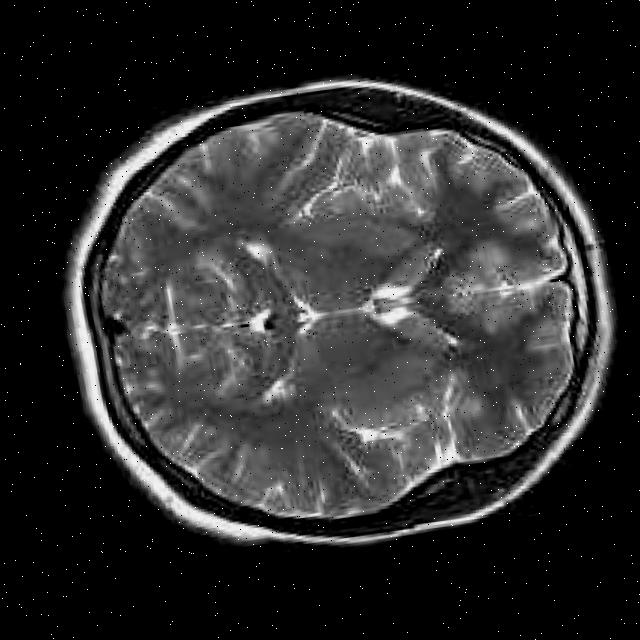NoTumor: (20, 41, 640, 585)
